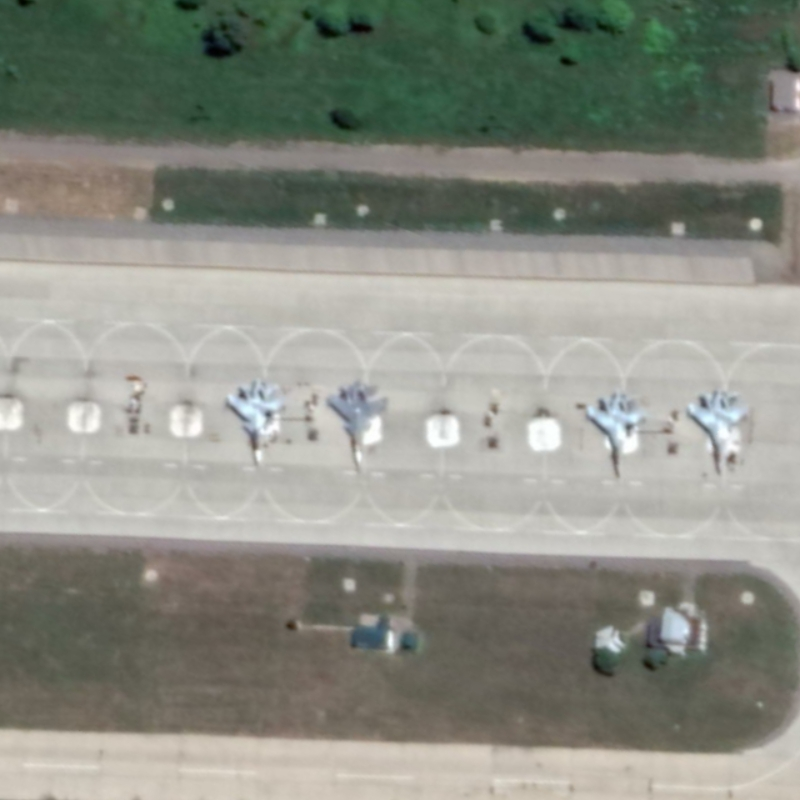A1: (686, 386, 751, 479), (585, 387, 649, 479)
A19: (325, 378, 392, 468), (225, 376, 290, 465)
